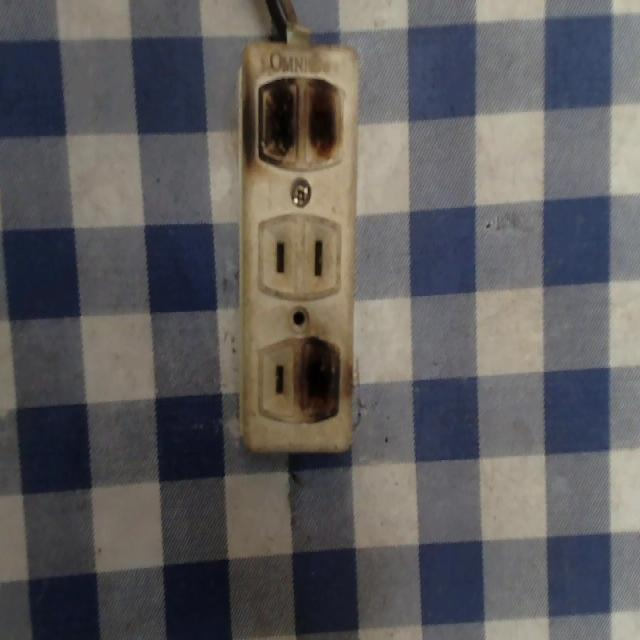-: (239, 66, 345, 166), (290, 328, 357, 435)
